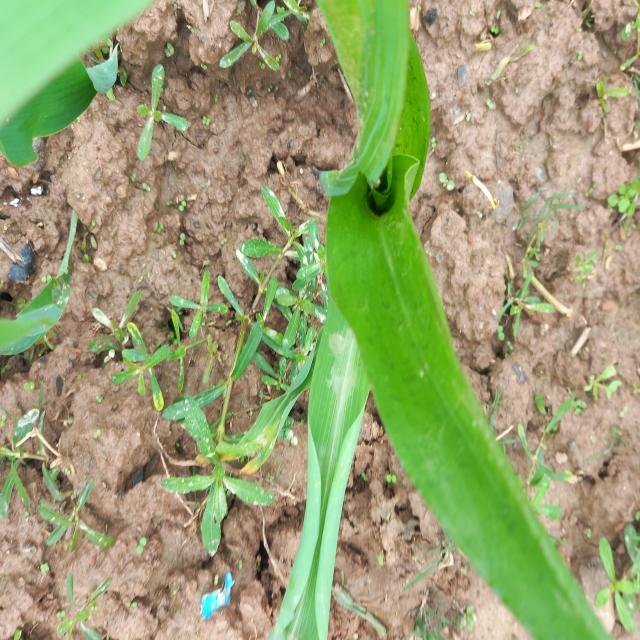maize: (317, 25, 496, 640), (0, 0, 78, 196)
weed: (115, 243, 299, 516), (520, 162, 640, 472), (2, 420, 96, 553), (587, 507, 640, 640)
